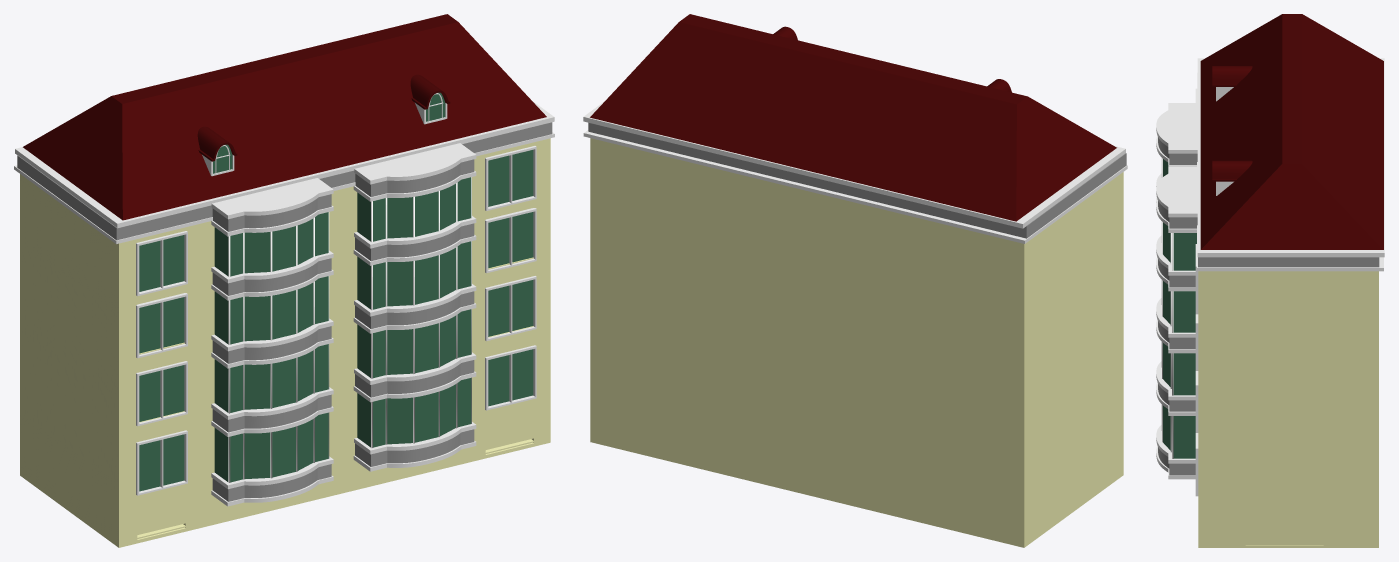
3 views of the same model, side by side, from view 1: azimuth 30°, elevation 25°; view 2: azimuth 150°, elevation 25°; view 3: azimuth 270°, elevation 25° (orthographic). The views are drawn at different scales.
Parts seen in each view (by area): view 1: house01; view 2: house01; view 3: house01.
Boxes of the visible parts, left/top/right/bottom form: house01: left=14, top=14, right=554, bottom=547; house01: left=583, top=14, right=1127, bottom=547; house01: left=1156, top=14, right=1384, bottom=547.
Size of the model in its own units: 6790 by 5890 by 3353.
